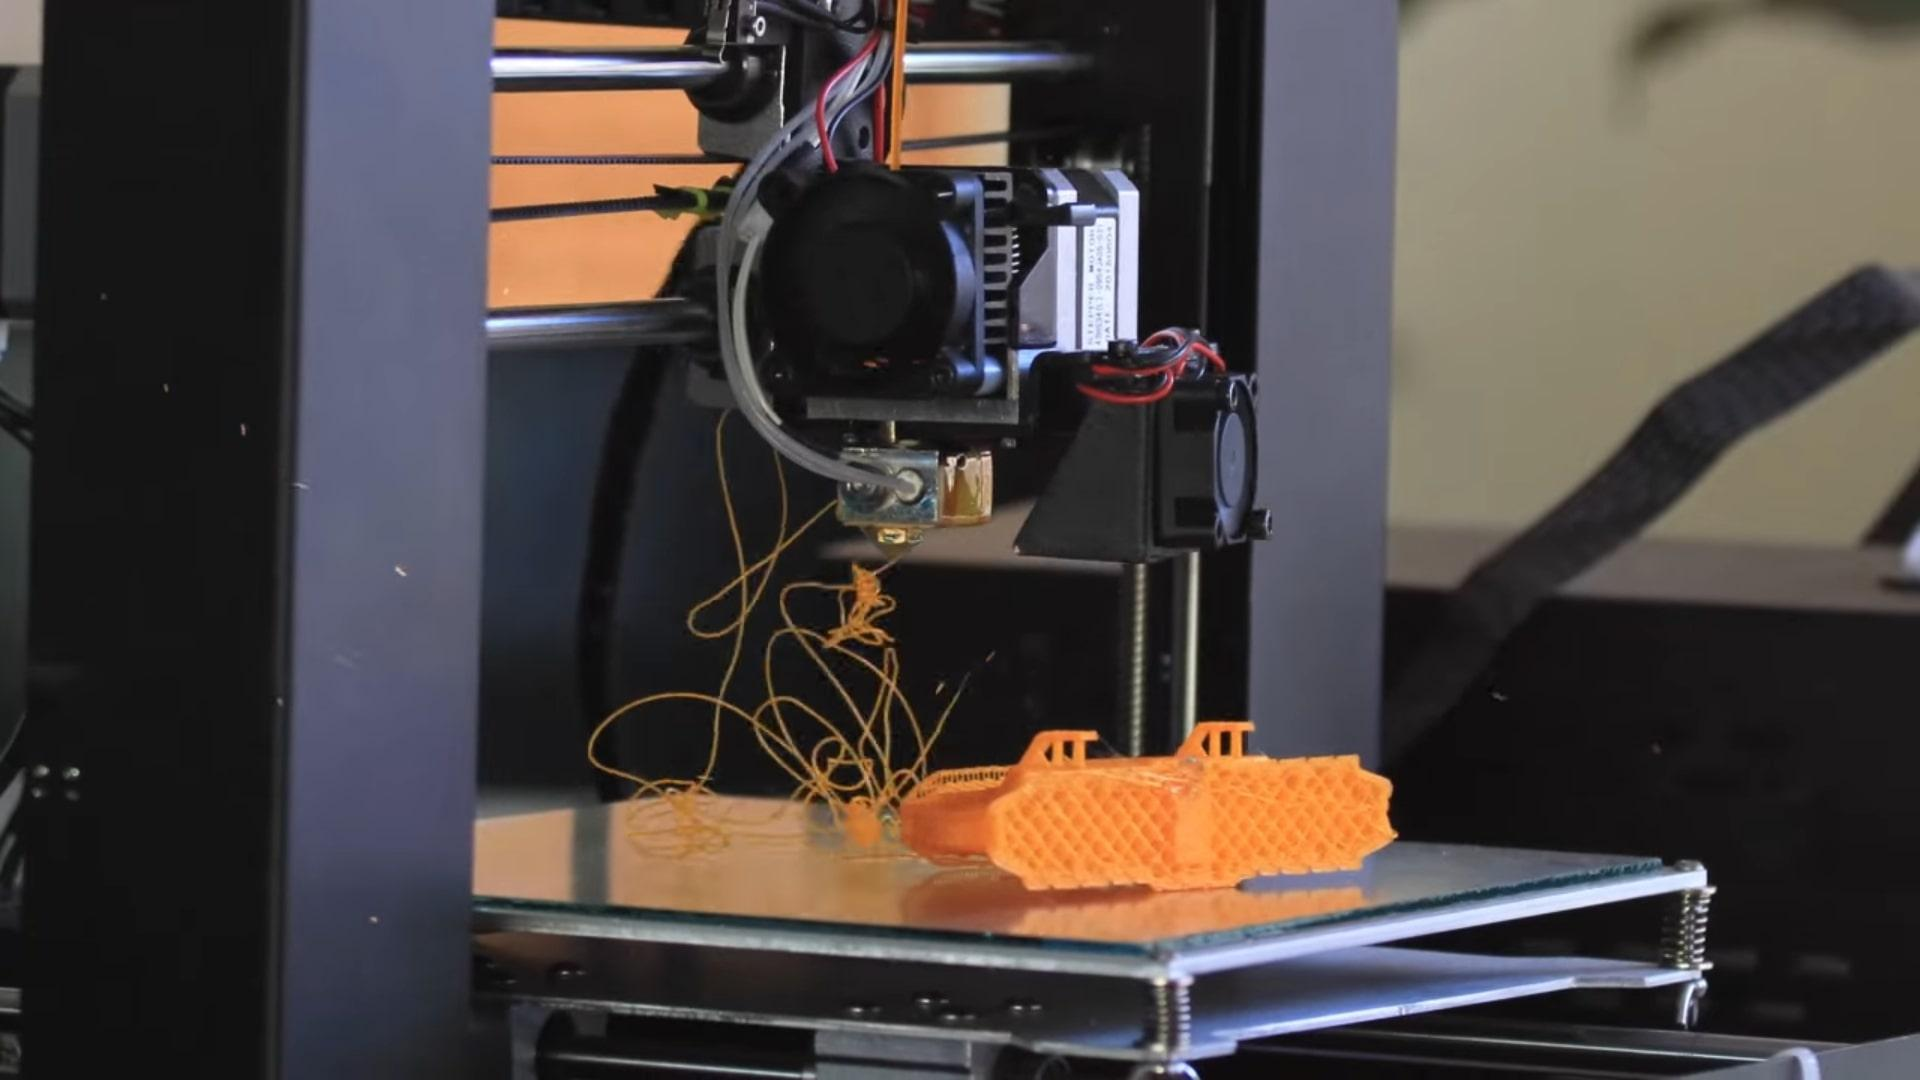Printing-Artifact: (702, 414, 920, 857)
